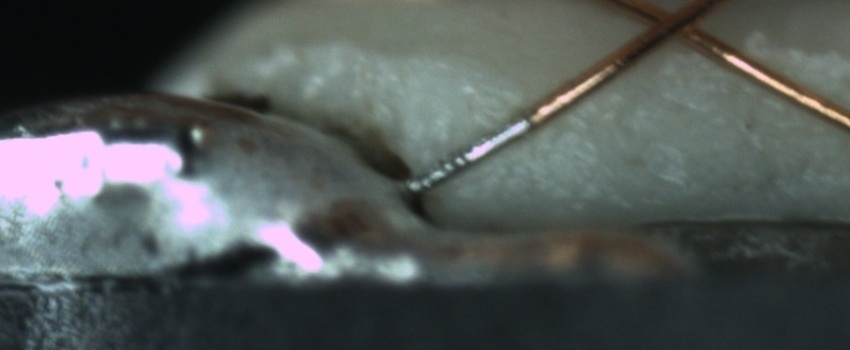CL: (634, 1, 719, 49)
TS: (398, 114, 534, 197)
